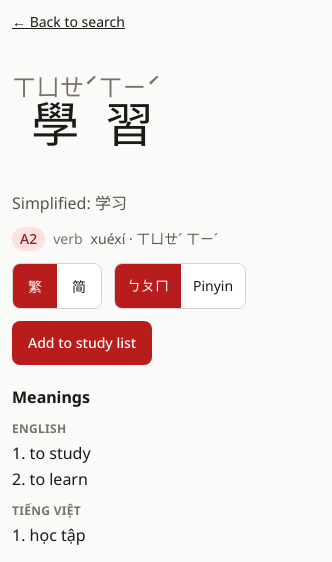
it: study list › adds the word and keeps the button gone afterwards
Click the button "Add to study list" at (82, 343), box [12,321,152,365]
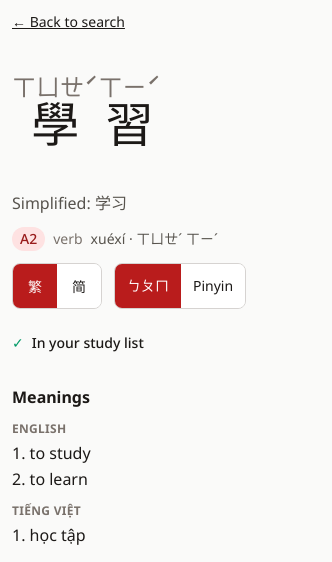
Now the text "In your study list" is shown, box [32,333,144,352]
